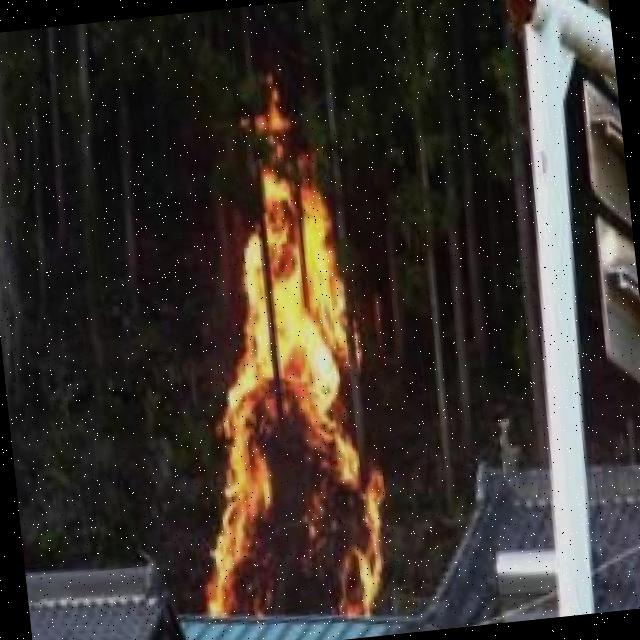fire: (162, 56, 406, 628)
